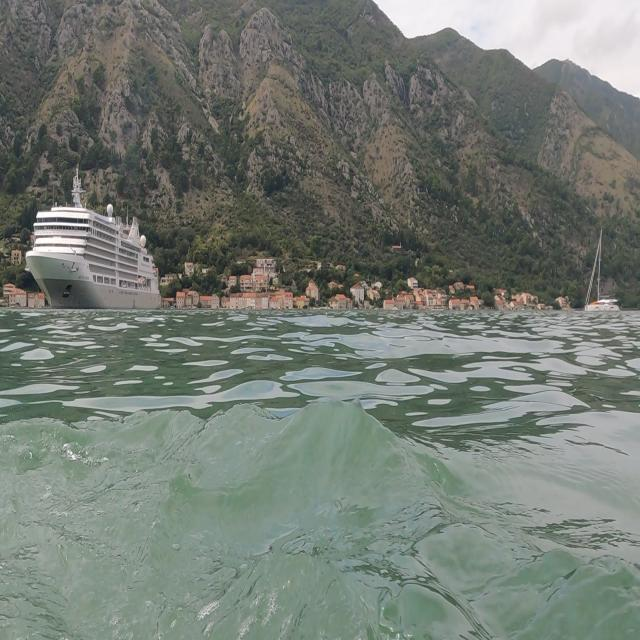boat: (24, 160, 162, 312), (577, 215, 627, 332)
